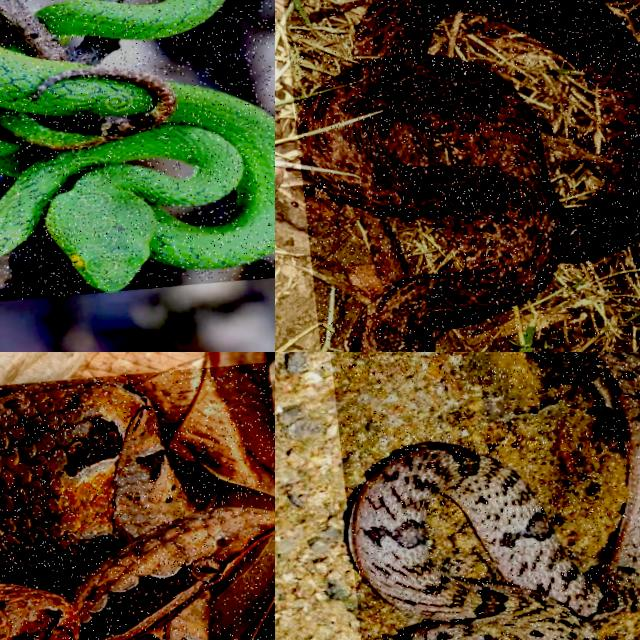Calloselasma rhodostoma: (349, 352, 639, 639), (0, 378, 274, 639)
Ovophis monticola: (299, 0, 639, 351)
Trimeresurus macrops: (0, 46, 274, 290)
